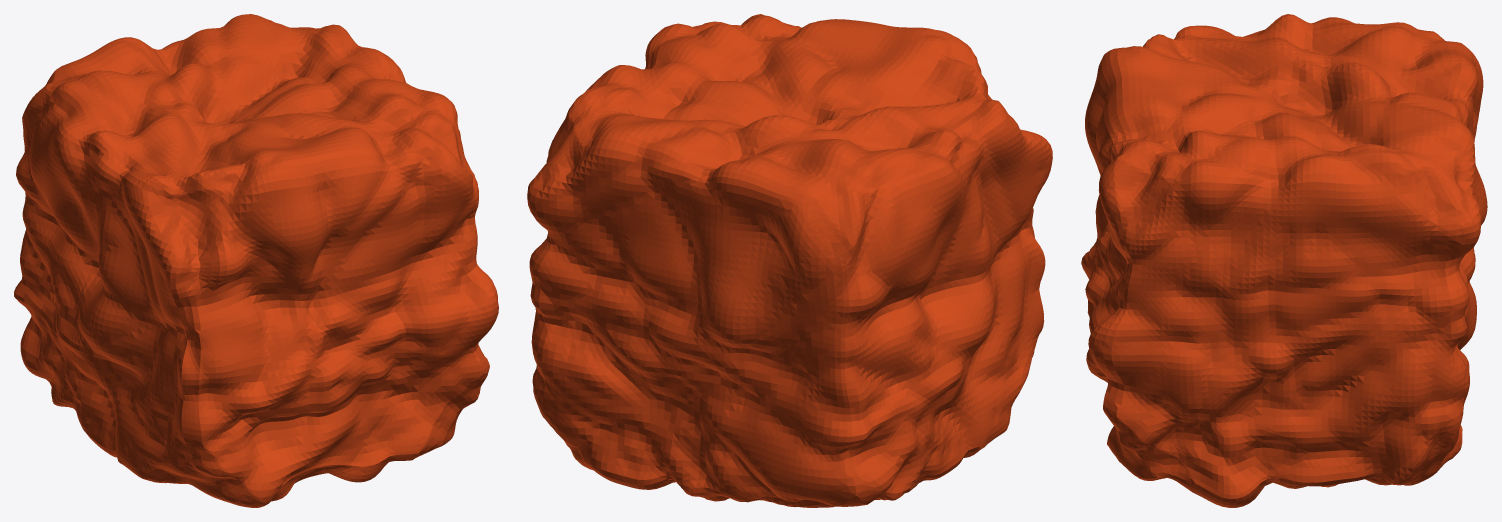
File: PLANET2(o).obj
3 renders of one model, left to right at view 1: azimuth 30°, elevation 25°; view 2: azimuth 150°, elevation 25°; view 3: azimuth 270°, elevation 25°, orthographic. The views are drawn at different scales.
Visible parts, largest first — view 1: Cube_Cube.001; view 2: Cube_Cube.001; view 3: Cube_Cube.001.
Boxes of the visible parts, x1,y1,x2,y2 form: Cube_Cube.001: (14, 14, 498, 507); Cube_Cube.001: (527, 14, 1052, 507); Cube_Cube.001: (1081, 14, 1487, 507).
Size of the model in its own units: 0.9104 by 0.8943 by 0.9134.
